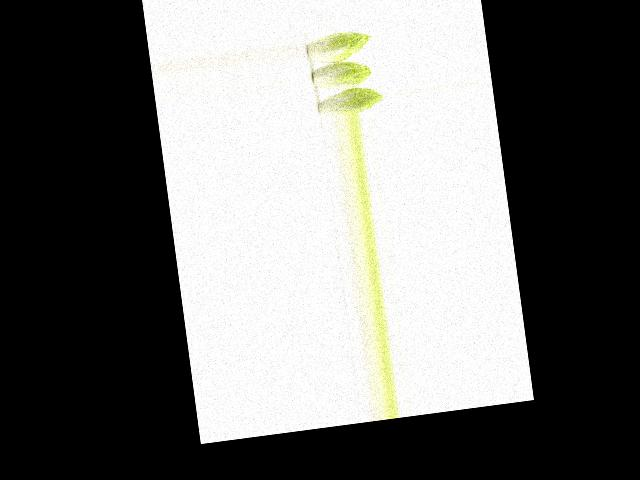lettuce: (302, 28, 373, 65)
